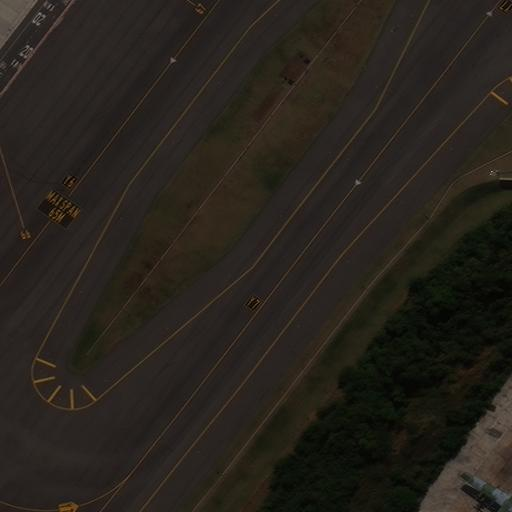Military Transport: (459, 473, 512, 512)
